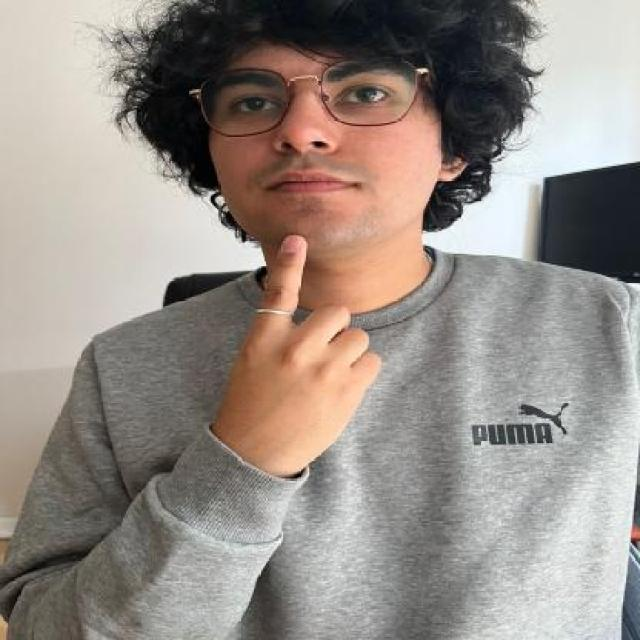T: (210, 228, 385, 470)
